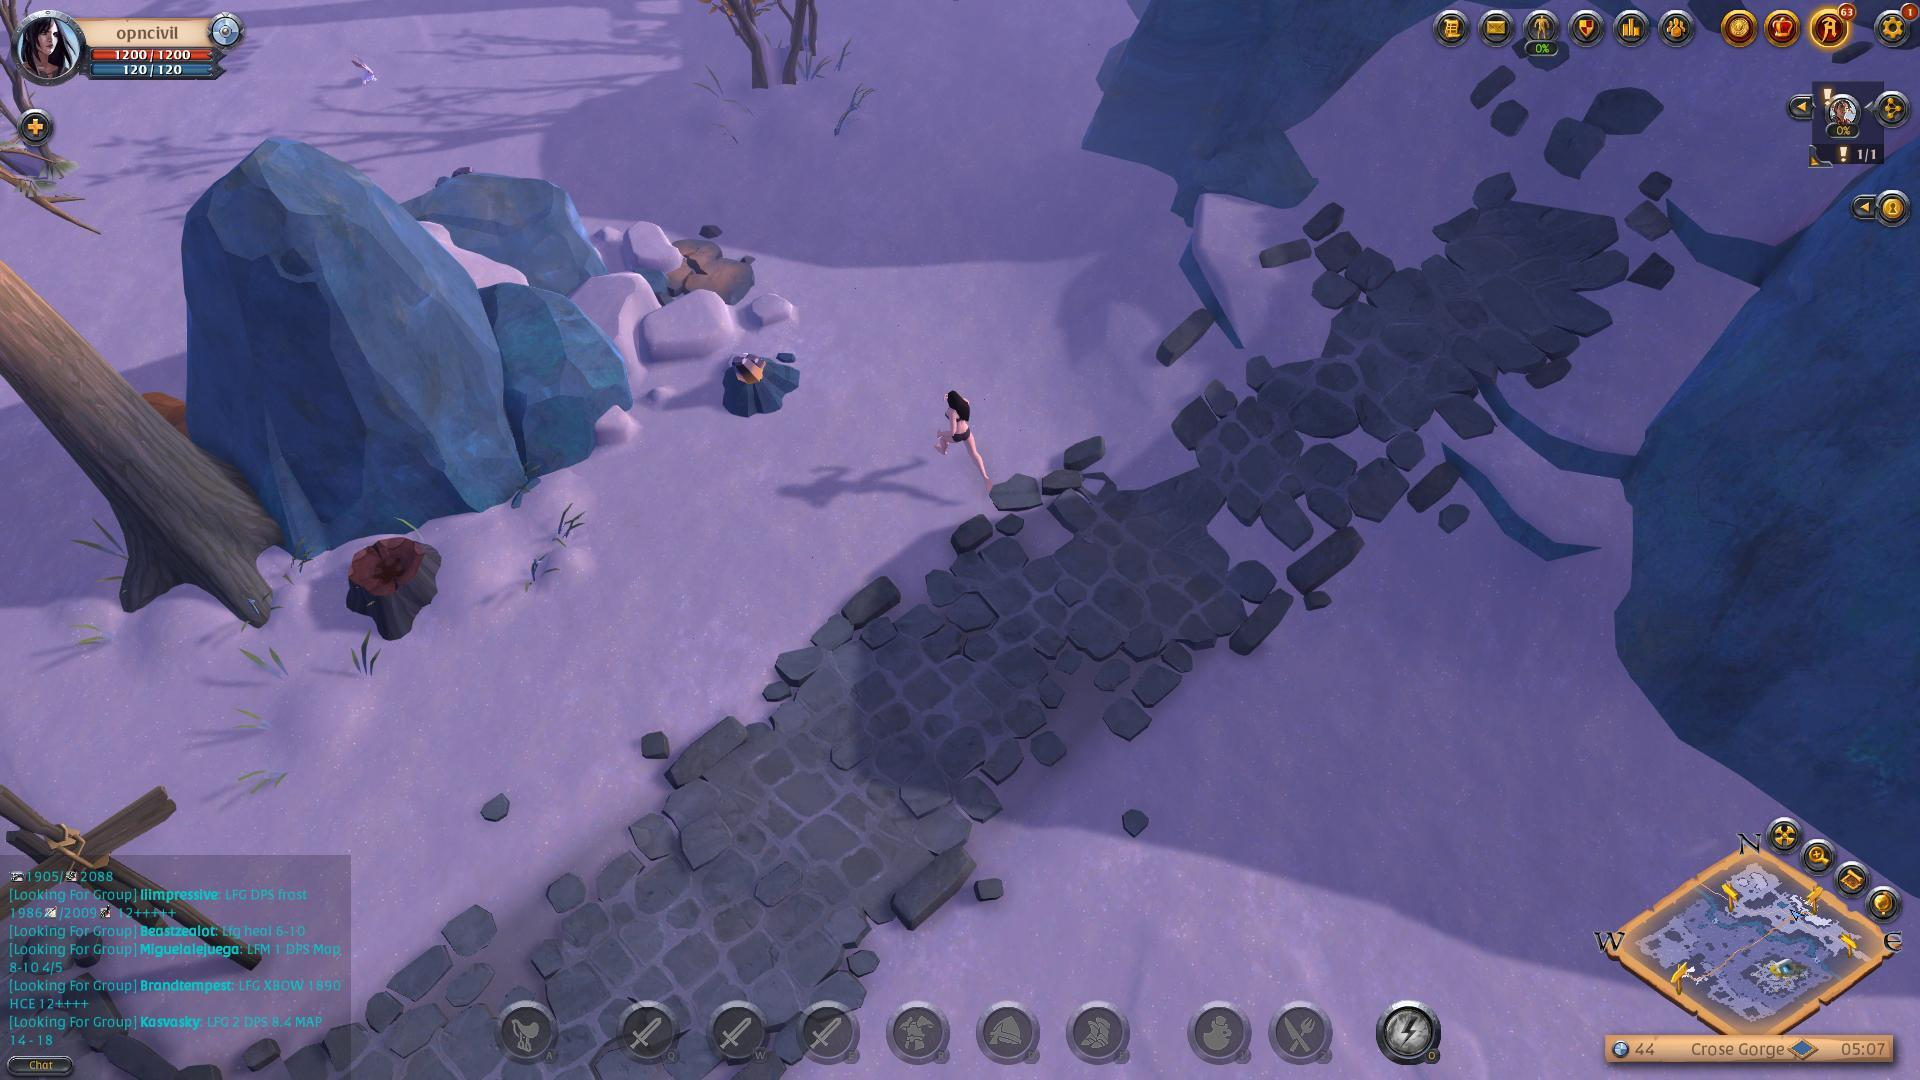copper_ore: (713, 344, 808, 423)
